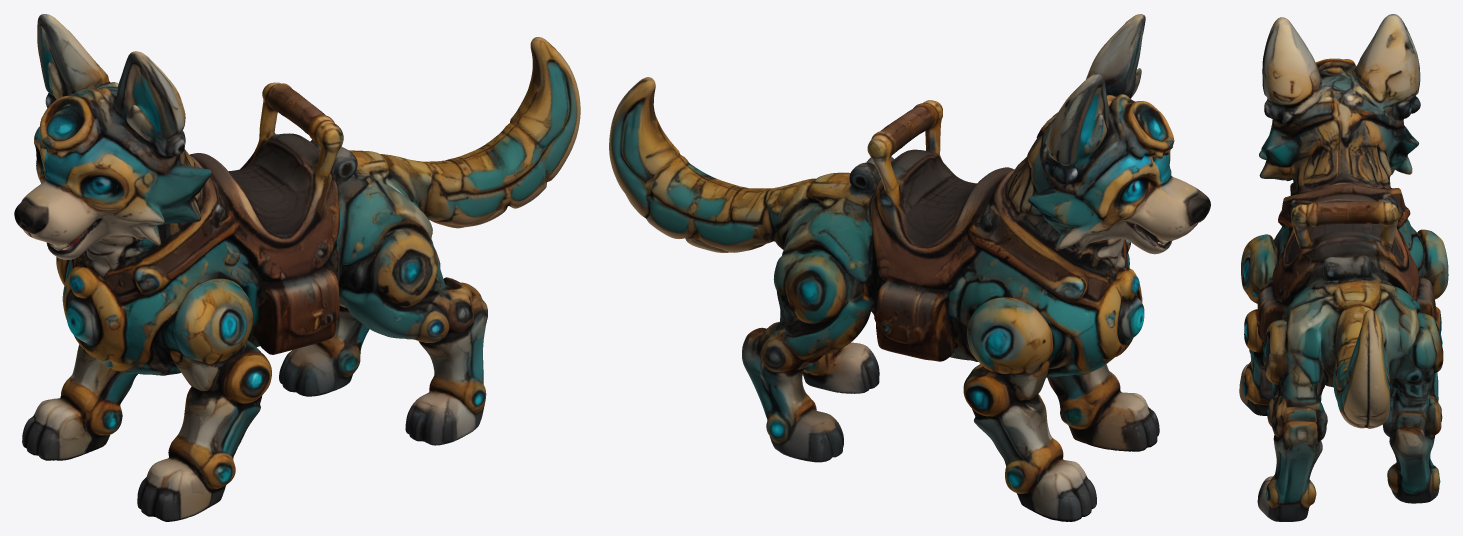
Rendered from moon-hopper-M-Copilot.glb.
3 renders of one model, left to right at view 1: azimuth 30°, elevation 25°; view 2: azimuth 150°, elevation 25°; view 3: azimuth 270°, elevation 25°, orthographic. The views are drawn at different scales.
Visible parts, largest first — view 1: world; view 2: world; view 3: world.
Boxes of the visible parts, <box> form: world: <box>14,14,580,521</box>; world: <box>609,14,1210,521</box>; world: <box>1239,14,1448,521</box>.
Size of the model in its own units: 1 by 0.7397 by 0.3785.
Materials: 1 (1 with a texture image).
